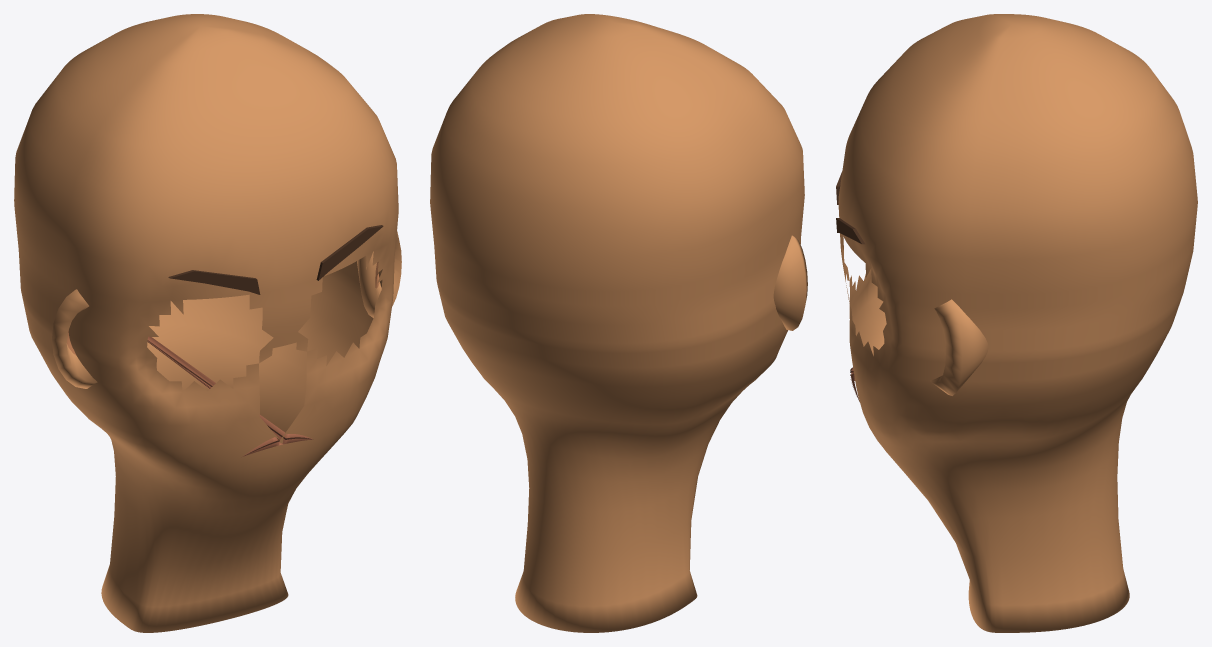
The model's file is base-feminina-01.glb.
The picture shows the model from 3 angles, left to right: view 1: azimuth 30°, elevation 25°; view 2: azimuth 150°, elevation 25°; view 3: azimuth 270°, elevation 25°; orthographic projection. The views are drawn at different scales.
Visible parts, largest first — view 1: RCL_Base_Feminina_01, RCL_Orelha_base-f-01_-1, RCL_Orelha_base-f-01_1, RCL_Labios_base-f-01, RCL_Sobrancelha_base-f-01_-1, RCL_Sobrancelha_base-f-01_1; view 2: RCL_Base_Feminina_01, RCL_Orelha_base-f-01_-1; view 3: RCL_Base_Feminina_01, RCL_Orelha_base-f-01_1.
Boxes of the visible parts, x1,y1,x2,y2 form: RCL_Base_Feminina_01: (14, 14, 398, 632); RCL_Orelha_base-f-01_-1: (52, 289, 97, 388); RCL_Orelha_base-f-01_1: (357, 231, 401, 317); RCL_Labios_base-f-01: (147, 336, 312, 456); RCL_Sobrancelha_base-f-01_-1: (168, 270, 260, 294); RCL_Sobrancelha_base-f-01_1: (316, 225, 383, 280); RCL_Base_Feminina_01: (430, 14, 804, 632); RCL_Orelha_base-f-01_-1: (773, 235, 807, 330); RCL_Base_Feminina_01: (838, 14, 1197, 632); RCL_Orelha_base-f-01_1: (930, 299, 988, 395).
Bounding box in the file's own units: 0.192 × 0.305 × 0.1752.
